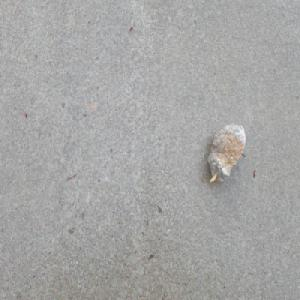Rock: (207, 121, 247, 186)
